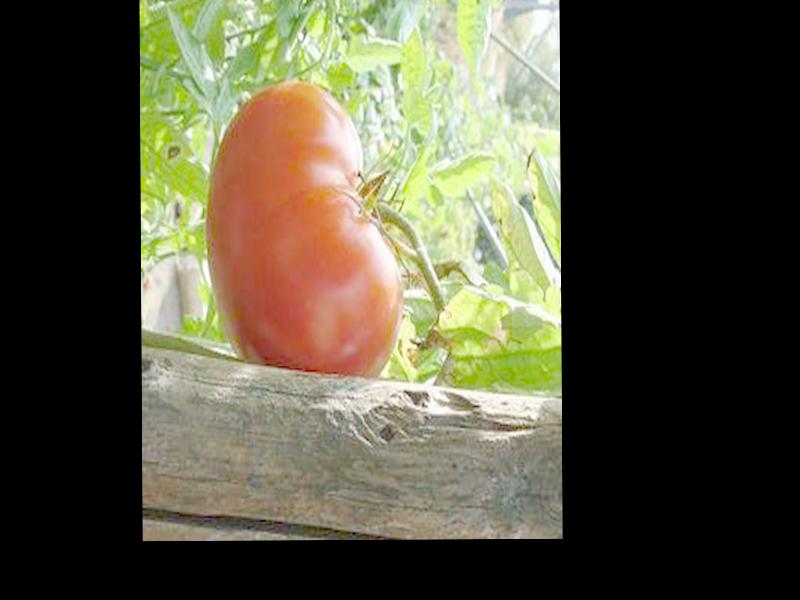Tomato: (207, 80, 403, 383)
